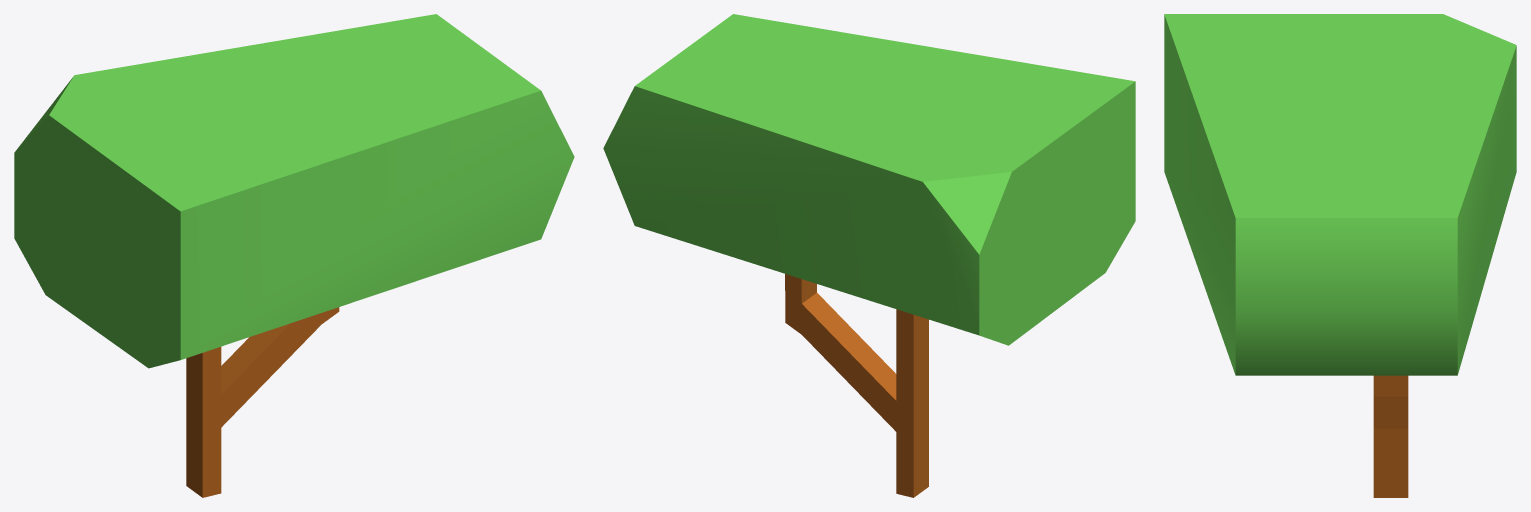
File: arbre2.FBX
3 views of the same model, side by side, from view 1: azimuth 30°, elevation 25°; view 2: azimuth 150°, elevation 25°; view 3: azimuth 270°, elevation 25° (orthographic). The views are drawn at different scales.
Parts seen in each view (by area): view 1: Box655, Box654; view 2: Box655, Box654; view 3: Box655, Box654.
Boxes of the visible parts, left/top/right/bottom form: Box655: left=14, top=14, right=574, bottom=368; Box654: left=186, top=307, right=339, bottom=497; Box655: left=603, top=14, right=1135, bottom=345; Box654: left=785, top=274, right=928, bottom=497; Box655: left=1164, top=14, right=1516, bottom=375; Box654: left=1373, top=375, right=1408, bottom=497.
Bounding box in the file's own units: 70.04 × 60.77 × 47.14.
